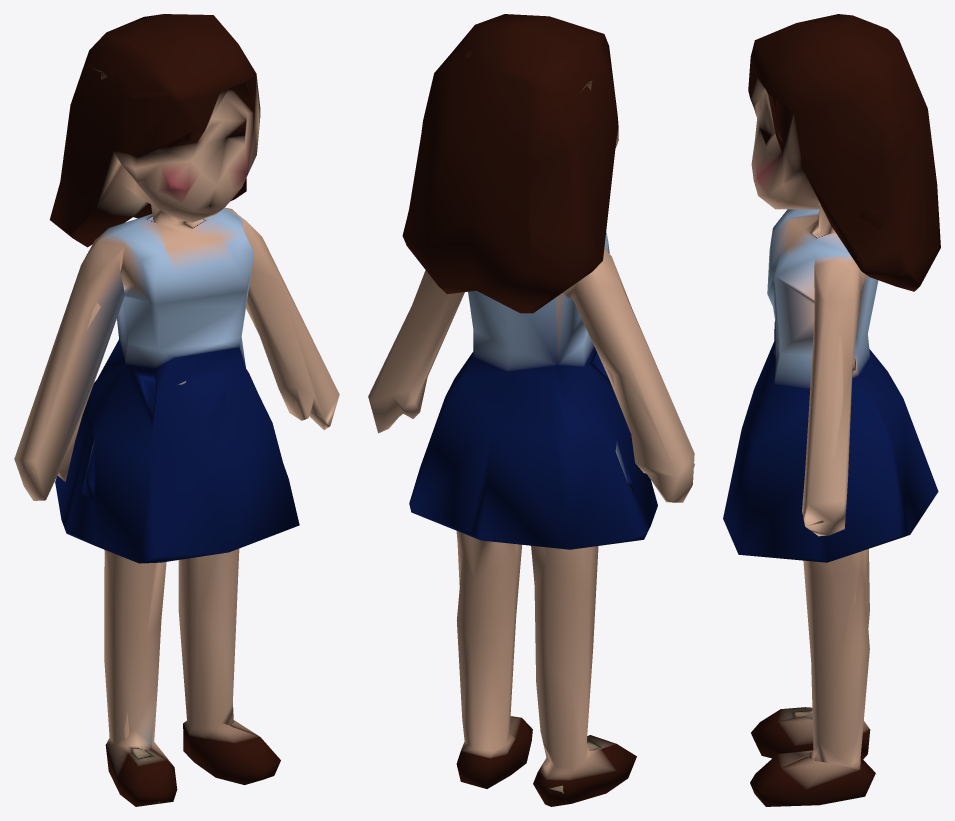
Rendered from gen3d-sister-lod1.glb.
The picture shows the model from 3 angles, left to right: view 1: azimuth 30°, elevation 25°; view 2: azimuth 150°, elevation 25°; view 3: azimuth 270°, elevation 25°; orthographic projection.
Visible parts, largest first — view 1: part_0; view 2: part_0; view 3: part_0.
Boxes of the visible parts, box(x1,y1,x2,y2) form: part_0: box(14, 14, 339, 806); part_0: box(368, 14, 694, 806); part_0: box(723, 14, 940, 806).
Size of the model in its own units: 0.4338 by 0.9983 by 0.2627.
